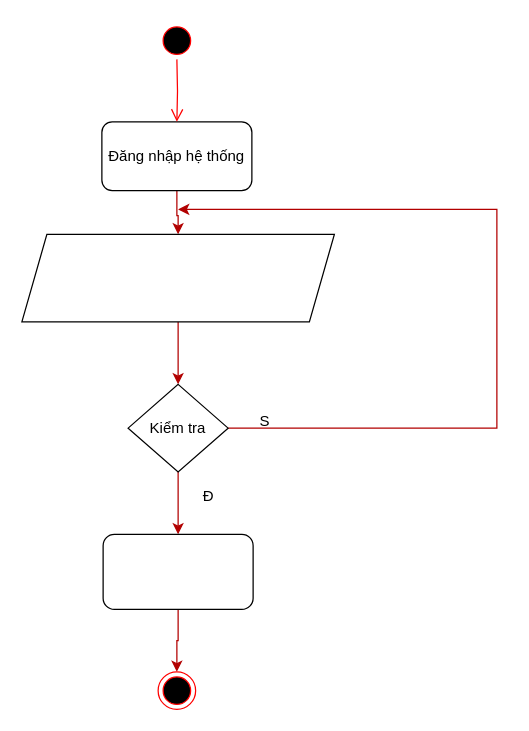
Image size: 529x731. Some labels were removed from this diagram. The centre of each missing label's shape, as x and y in pixels:
"Tên đăng nhập và mật khẩu" belongs at point 177,277.
"Vào hệ thống" belongs at point 177,571.
